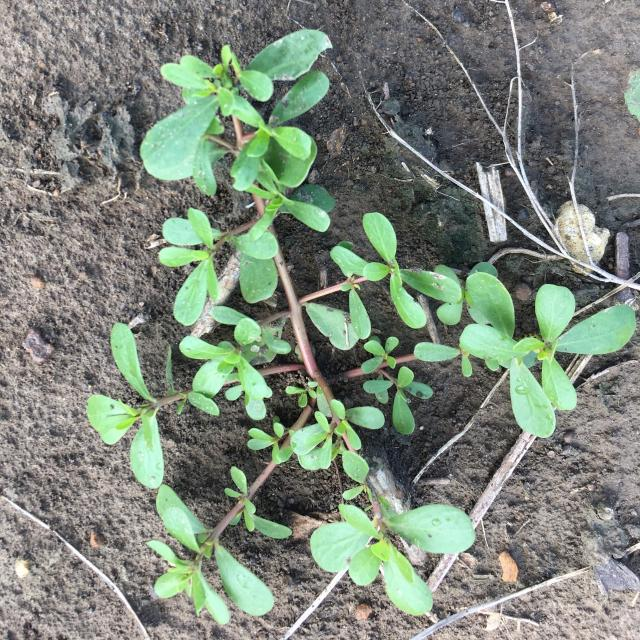Purslane: (86, 29, 636, 626)
